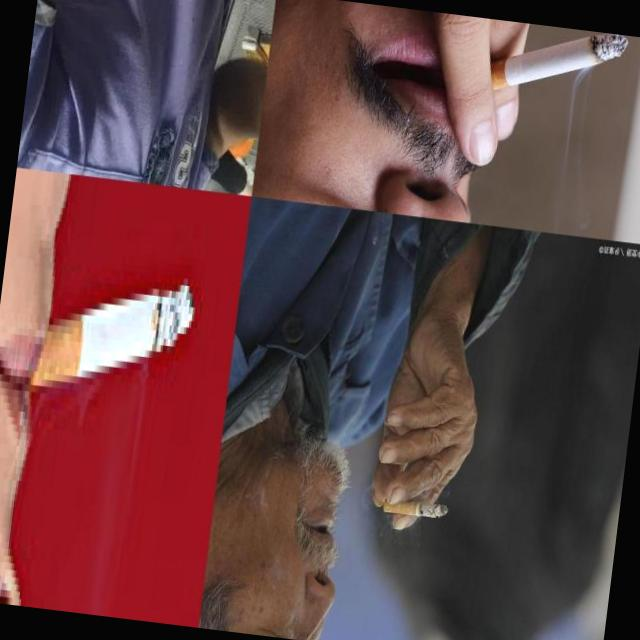smoke: (10, 258, 198, 428), (458, 16, 630, 116), (382, 495, 450, 520)
